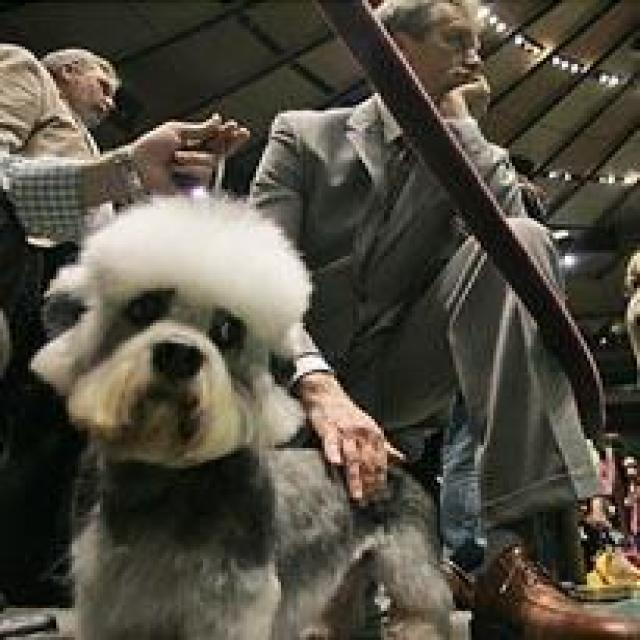dandie_dinmont: (28, 192, 453, 637)
